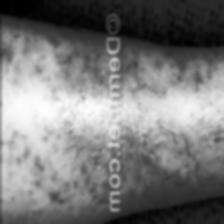Non-Cancerous Skin Condition: (0, 38, 105, 202)
